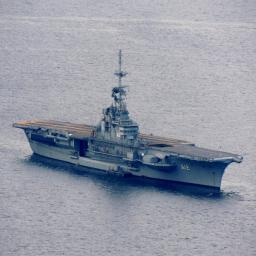Portanaves: (10, 45, 245, 198)
